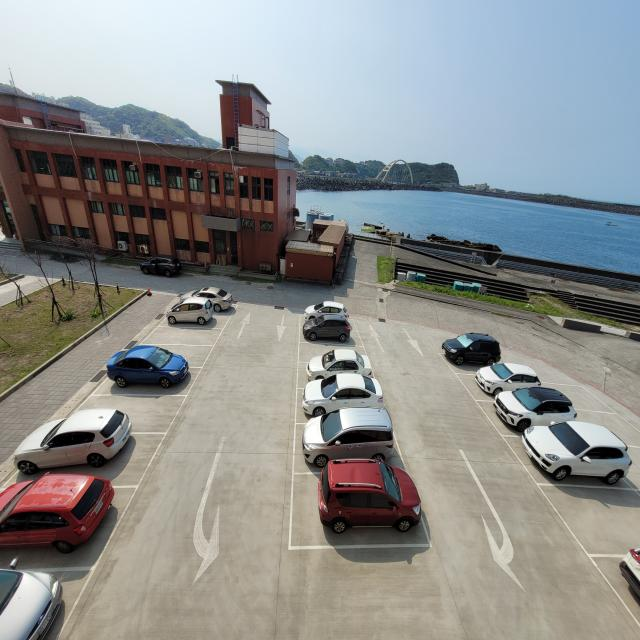car: (0, 474, 114, 556), (317, 456, 424, 535), (522, 417, 633, 485), (12, 406, 134, 467), (301, 405, 397, 466), (1, 566, 63, 640), (494, 386, 577, 438), (298, 370, 386, 415), (104, 346, 190, 390), (307, 348, 374, 386), (476, 362, 544, 398), (442, 332, 502, 368), (616, 535, 640, 612), (299, 313, 352, 346), (179, 286, 237, 315), (162, 297, 214, 329), (304, 299, 347, 323)
